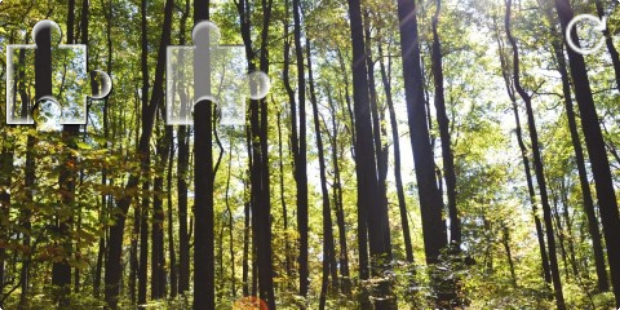target: (166, 21, 269, 125)
